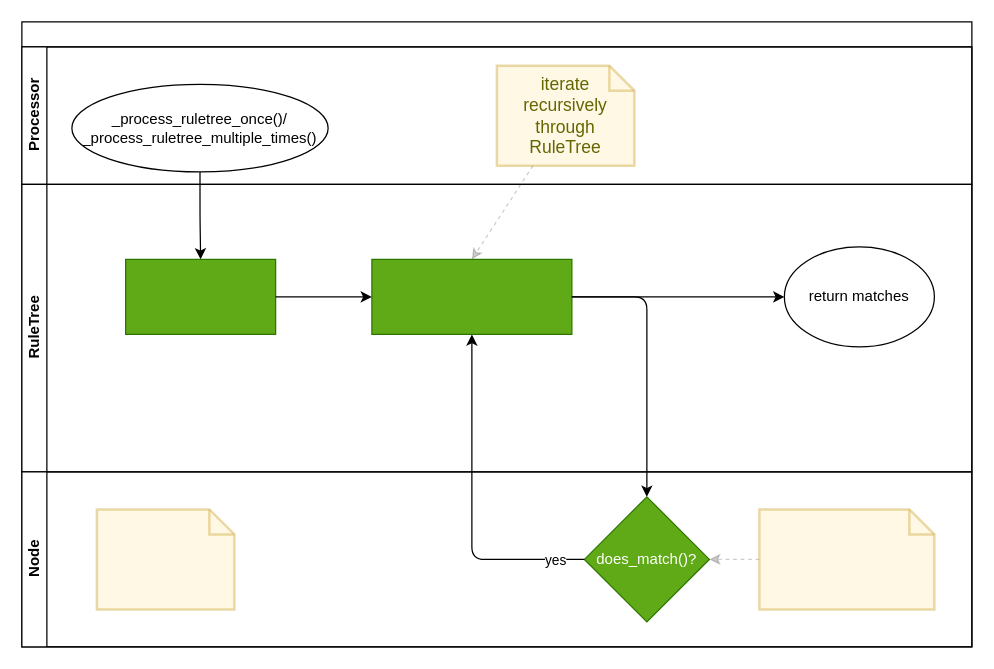
Some shapes in this 994 by 669 pixel diagram are drawn without their labels. Each missing label, with the centre of its shape:
"_retrive_matching_rules()" belongs at pixel 471 296.
"event given to every node in the ruletree" belongs at pixel 846 559.
"get_matching_rules()" belongs at pixel 200 296.
"represents partial filter expression" belongs at pixel 165 559.
